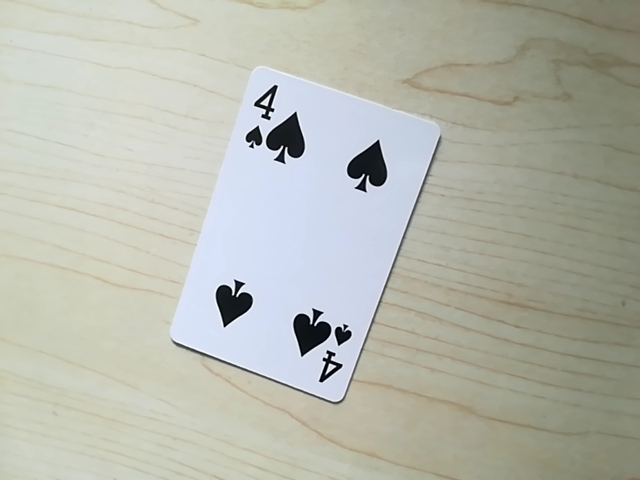ht 4: (239, 74, 289, 157), (311, 316, 355, 394)
